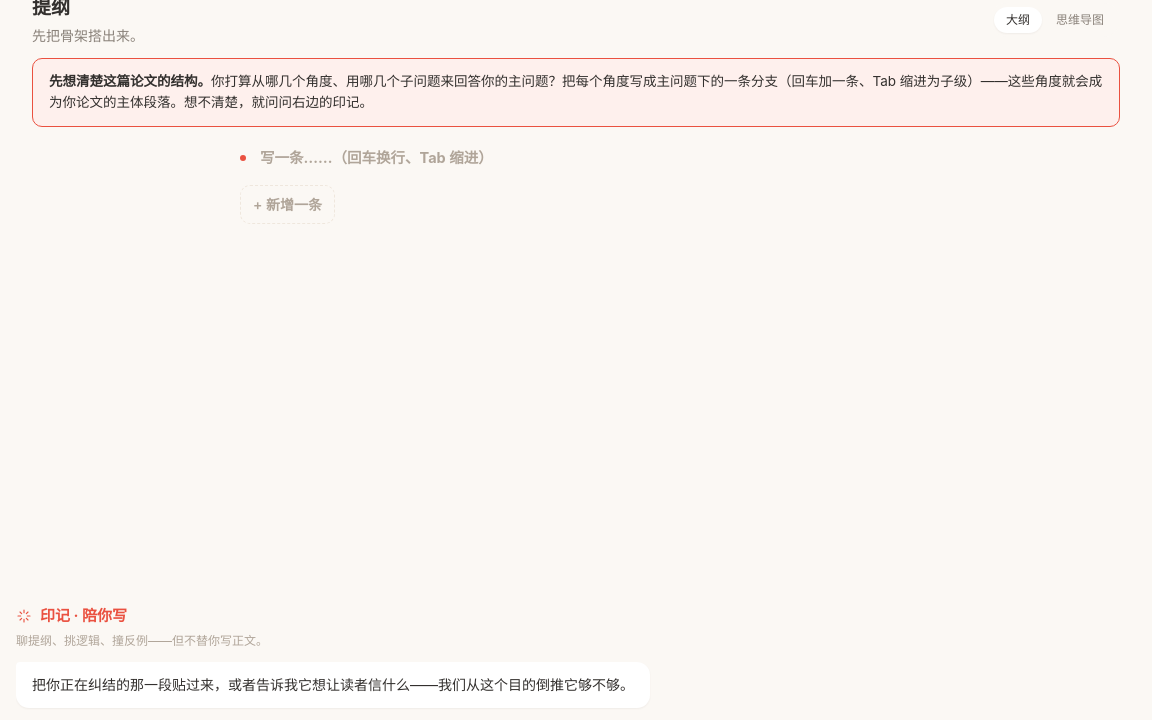
Test: WritingBlock · 整稿体检 (WA) › mind map grows from the keyboard: Enter adds a sibling, Tab adds a child (#11)
(page scrolled)
Click the button "思维导图" at (1080, 20), box [1044,7,1116,33]
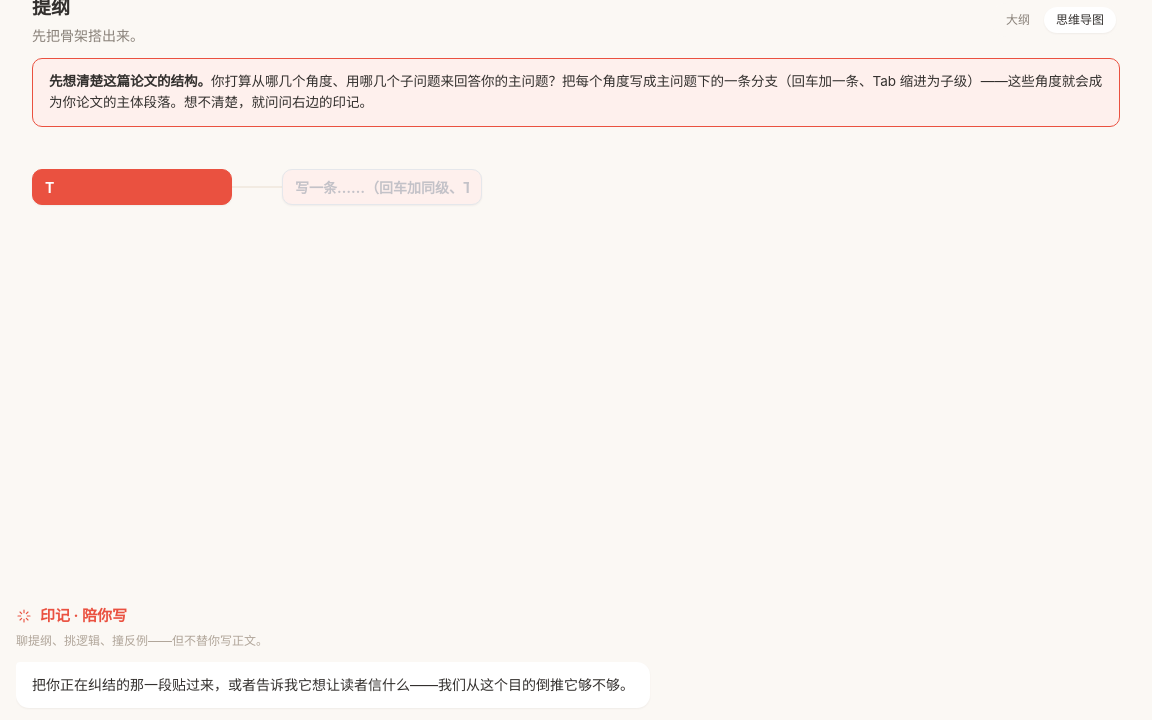
Check: the number of fields with placeholder "写一条……（回车加同级、Tab 加子节点）" is 1
Press Enter in the field with placeholder "写一条……（回车加同级、Tab 加子节点）", box [295,177,469,198]
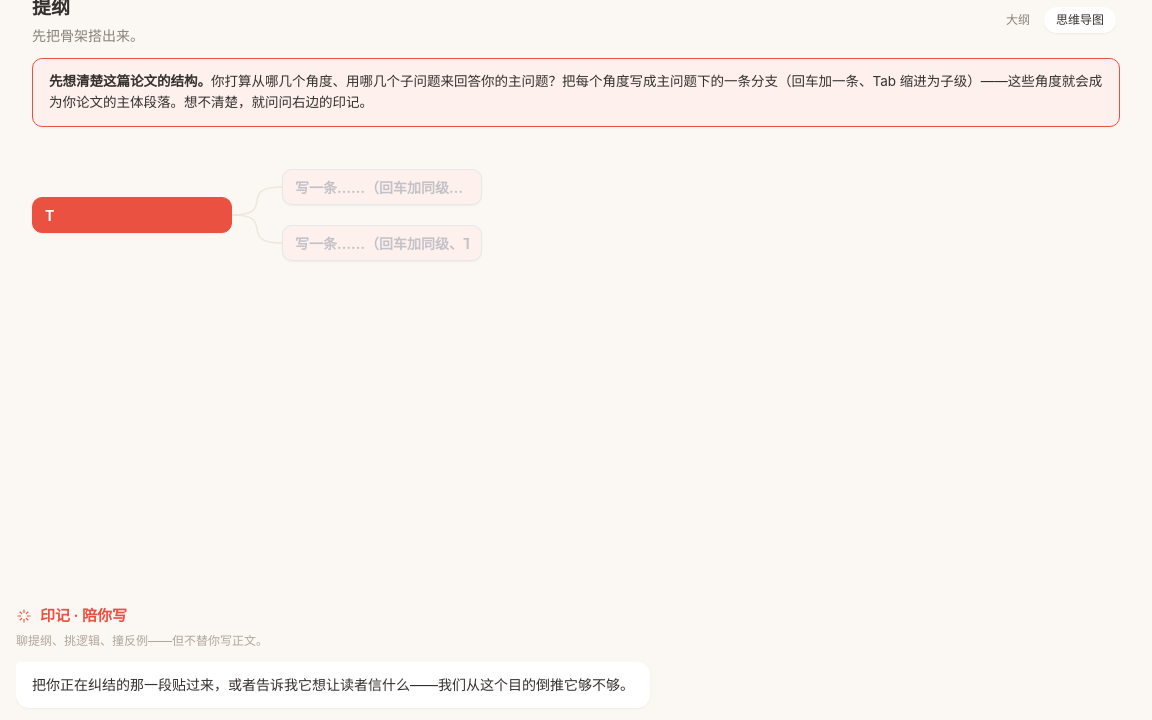
Check: the number of fields with placeholder "写一条……（回车加同级、Tab 加子节点）" is 2
Press Tab in the 1st field with placeholder "写一条……（回车加同级、Tab 加子节点）", box [295,177,469,198]
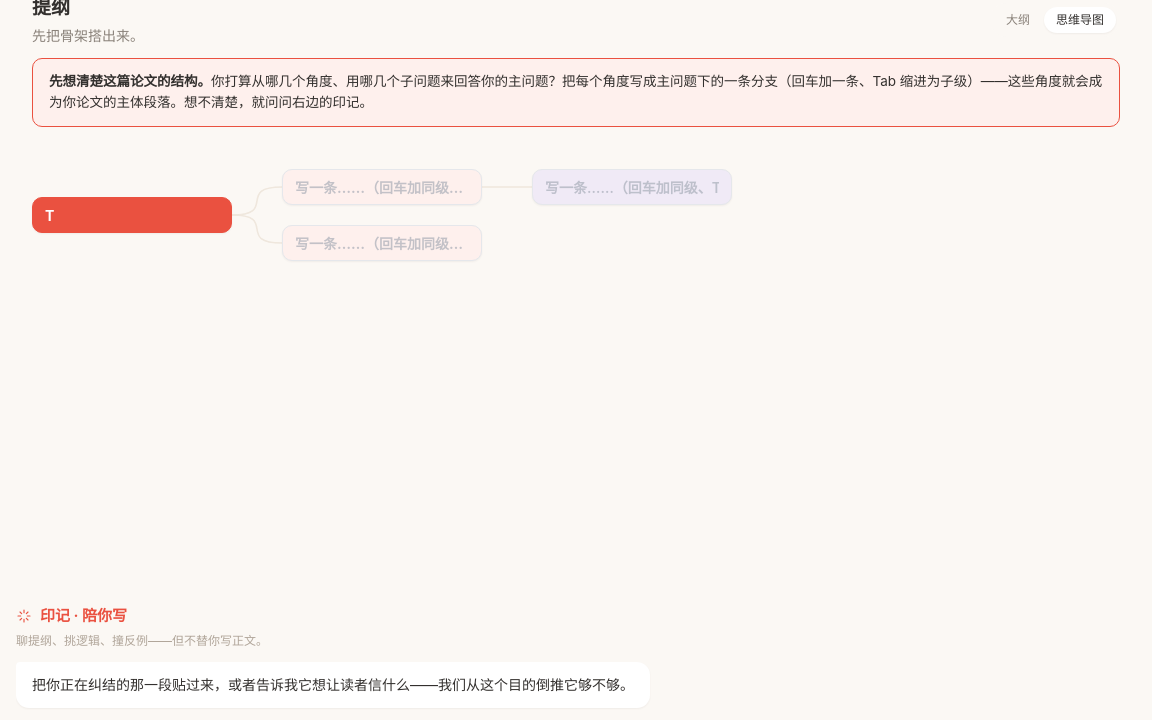
Check: the number of fields with placeholder "写一条……（回车加同级、Tab 加子节点）" is 3, box [295,177,469,198]; [545,177,719,198]; [295,233,469,254]
